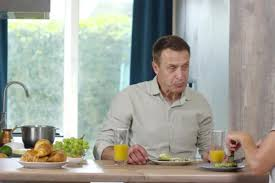white_male: (155, 40, 199, 101)
